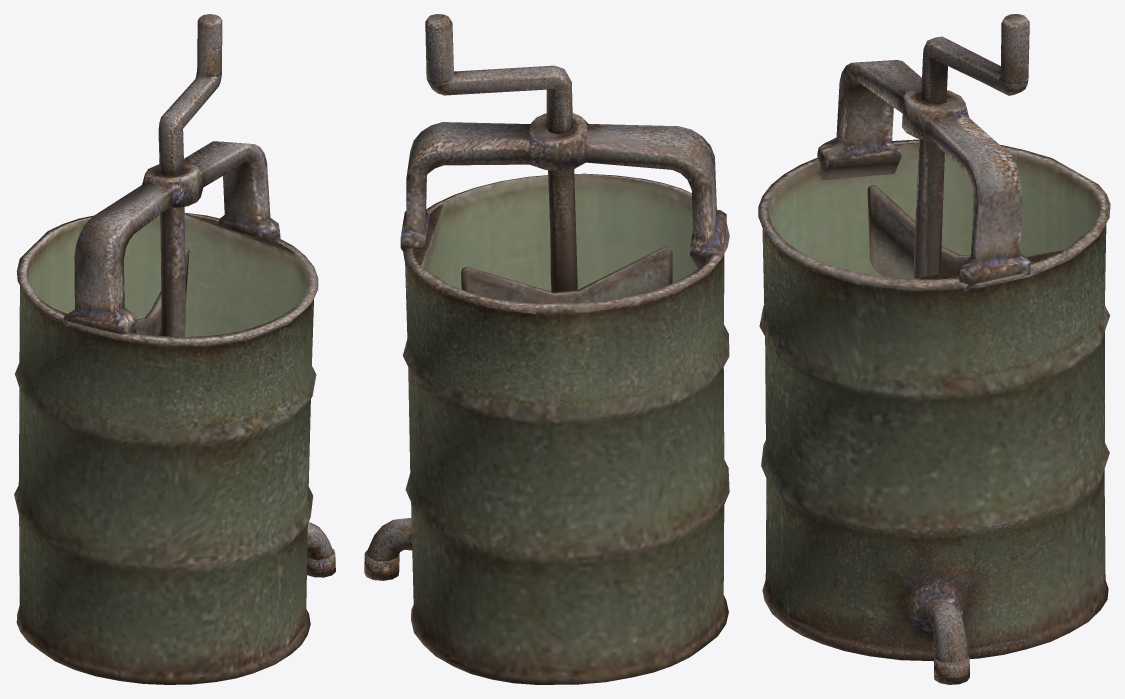
File: BiodieselReactor.fbx
3 views of the same model, side by side, from view 1: azimuth 30°, elevation 25°; view 2: azimuth 150°, elevation 25°; view 3: azimuth 270°, elevation 25° (orthographic). The views are drawn at different scales.
Visible parts, largest first — view 1: tripo_node_0d055d62; view 2: tripo_node_0d055d62; view 3: tripo_node_0d055d62.
Part boxes in pixels (left/top/right/bottom): tripo_node_0d055d62: left=14, top=14, right=335, bottom=684; tripo_node_0d055d62: left=364, top=14, right=729, bottom=684; tripo_node_0d055d62: left=758, top=14, right=1110, bottom=684.
Size of the model in its own units: 0.5767 by 0.9995 by 0.5151.
